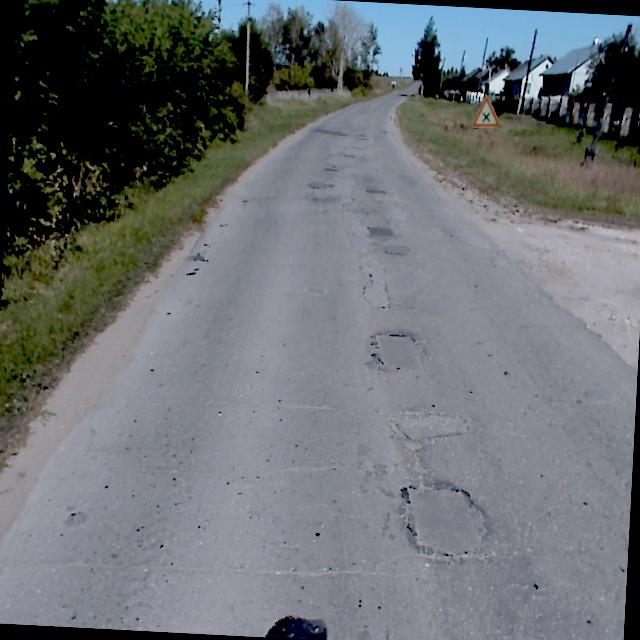road: (0, 94, 637, 640)
